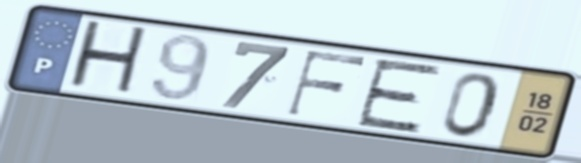0: (440, 71, 505, 139)
7: (217, 39, 295, 111)
9: (147, 32, 212, 104)
E: (352, 57, 447, 135)
F: (282, 48, 371, 119)
H: (63, 17, 153, 101)
